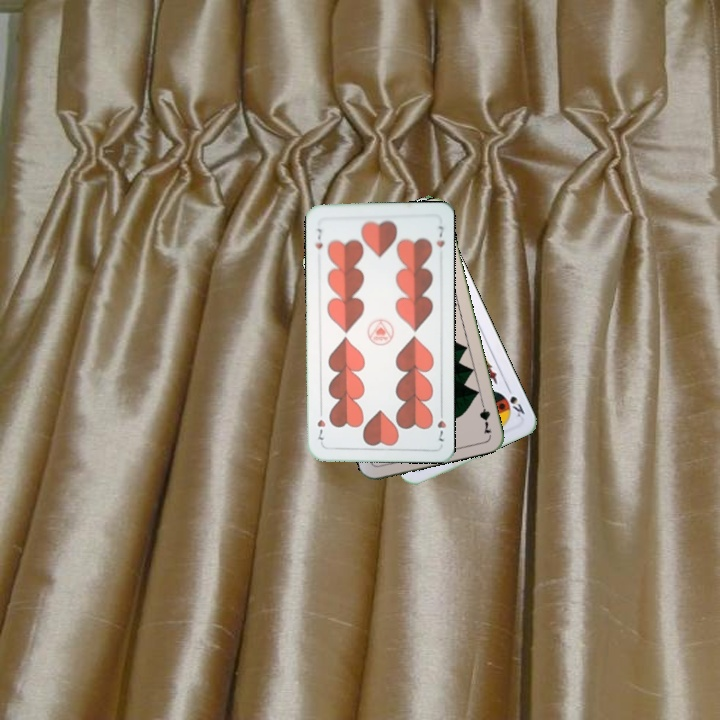G7: (475, 396, 494, 436)
H7: (433, 405, 448, 444), (311, 224, 325, 252)
SK: (499, 382, 527, 420)
